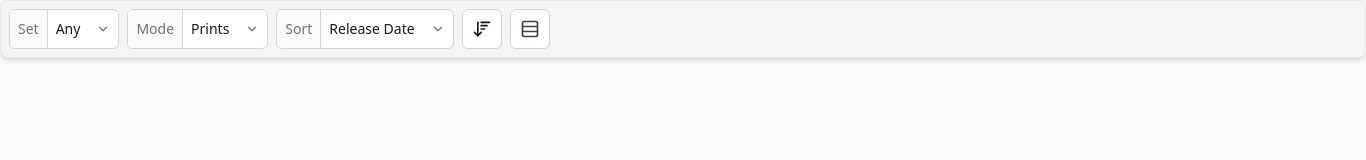
CardArtFilterBar › Scryfall Mode › renders Scryfall filter controls
Expected: the text "Set" is shown, [10,10,47,48]
// Open Sort dropdown
Click the text "Release Date" at [372, 29], box [329,19,415,39]
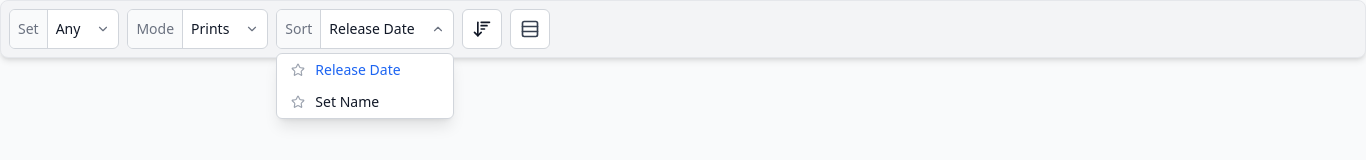
Expected: the button "Set Name" is shown, [315,92,441,112]
